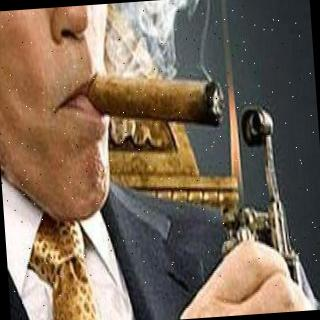smoke: (105, 0, 281, 70)
